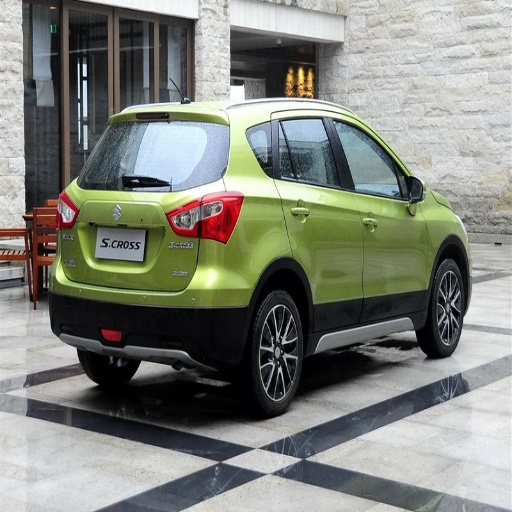back_bumper: (40, 238, 259, 368)
back_right_door: (272, 111, 363, 336)
tailgate: (57, 184, 174, 284)
trunk: (61, 191, 205, 289)
